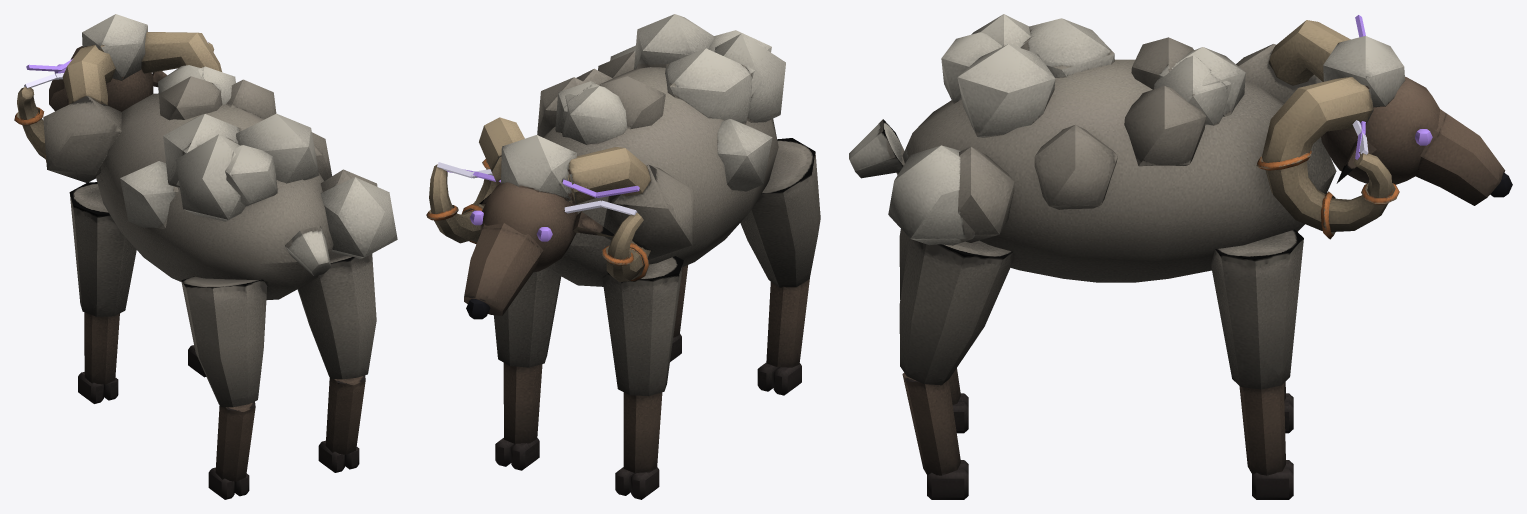
Rendered from elite_thunder_ram.fbx.
The picture shows the model from 3 angles, left to right: view 1: azimuth 30°, elevation 25°; view 2: azimuth 150°, elevation 25°; view 3: azimuth 270°, elevation 25°; orthographic projection. The views are drawn at different scales.
Parts seen in each view (by area): view 1: Body, Head, LegL, LegR, ArmL, KneeR, KneeL, ForearmL; view 2: Body, Head, LegL, ArmL, ArmR, KneeL, ForearmL, ForearmR, Head_Glow_Storm, Head_Glow_Spark, KneeR; view 3: Body, Head, LegR, ArmR, KneeR, ForearmR, KneeL.
Part boxes in pixels (x1,y1,x2,y2): Body: (43, 65, 397, 300); Head: (14, 14, 221, 162); LegL: (181, 276, 267, 407); LegR: (297, 251, 376, 379); ArmL: (69, 182, 136, 316); KneeR: (318, 375, 365, 472); KneeL: (208, 401, 255, 499); ForearmL: (78, 312, 119, 403); Body: (537, 14, 785, 286); Head: (426, 117, 650, 319); LegL: (740, 138, 820, 287); ArmL: (602, 256, 683, 396); ArmR: (494, 268, 561, 367); KneeL: (757, 278, 809, 395); ForearmL: (615, 392, 662, 499); ForearmR: (495, 363, 542, 470); Head_Glow_Storm: (447, 169, 639, 241); Head_Glow_Spark: (437, 162, 637, 215); KneeR: (670, 265, 687, 361); Body: (849, 14, 1336, 282); Head: (1256, 20, 1512, 239); LegR: (899, 238, 1013, 385); ArmR: (1211, 229, 1303, 389); KneeR: (902, 373, 968, 499); ForearmR: (1239, 383, 1293, 499); KneeL: (949, 368, 968, 433).
Size of the model in its own units: 322 by 507 by 715.
Materials: 3 (1 with a texture image).
